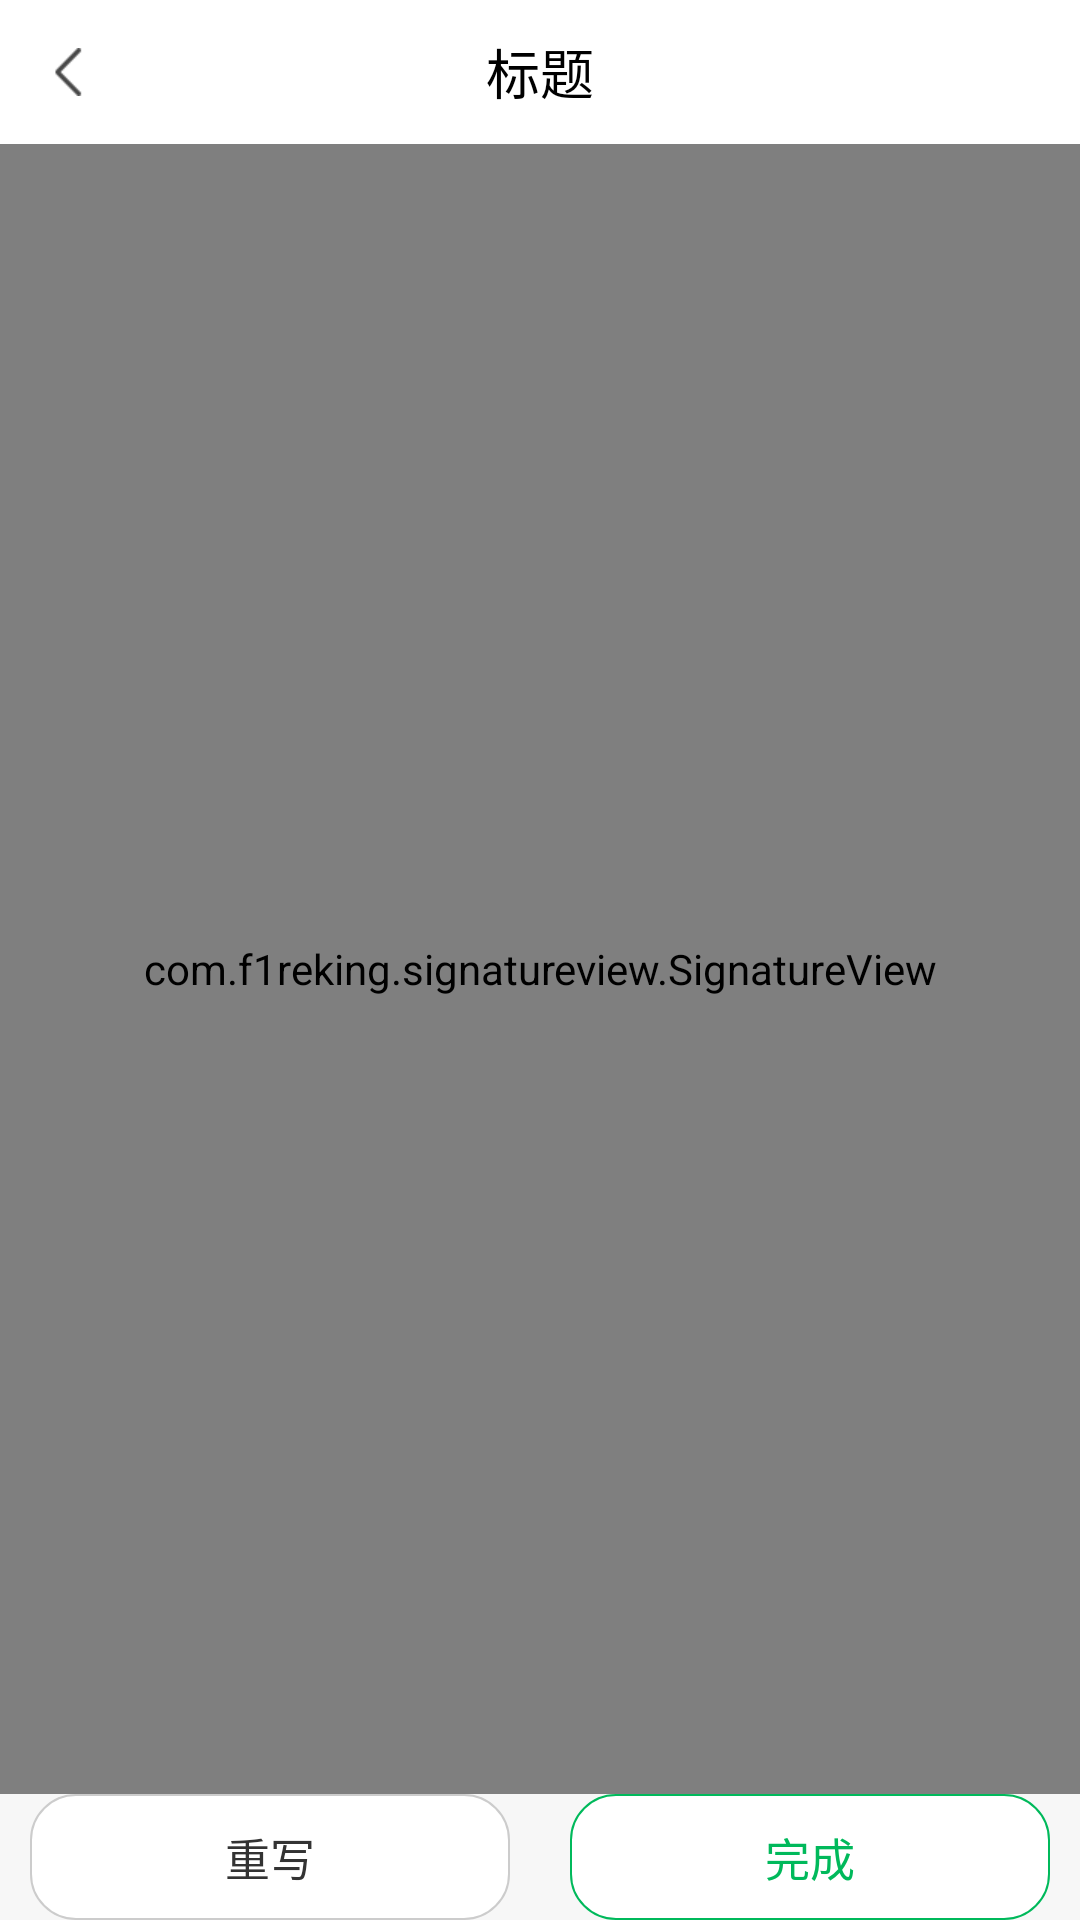

Screen size 1080px×1920px. Icon name, then its box in pixels as box(x1, y1, x2, y2):
back: box(55, 48, 82, 96)
